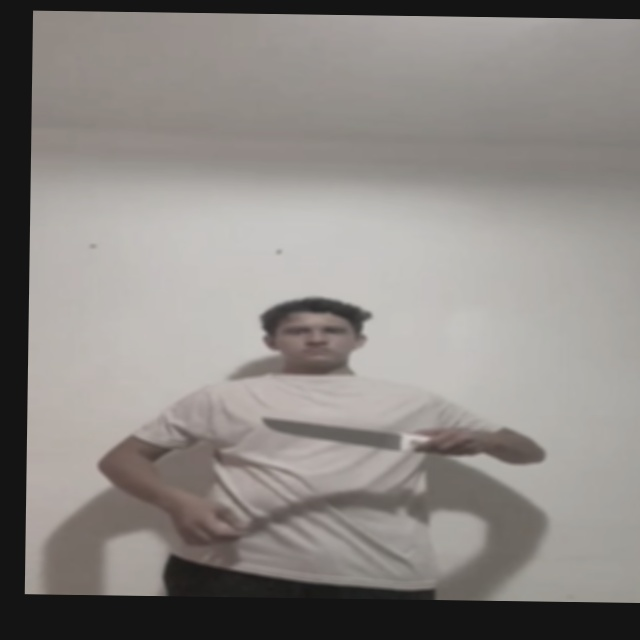Sharp-Object: (258, 415, 402, 446)
